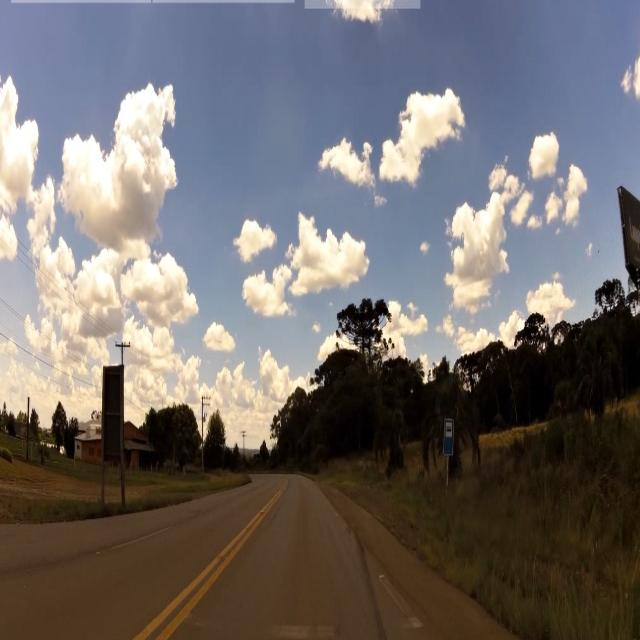S-14: (444, 418, 454, 458)
